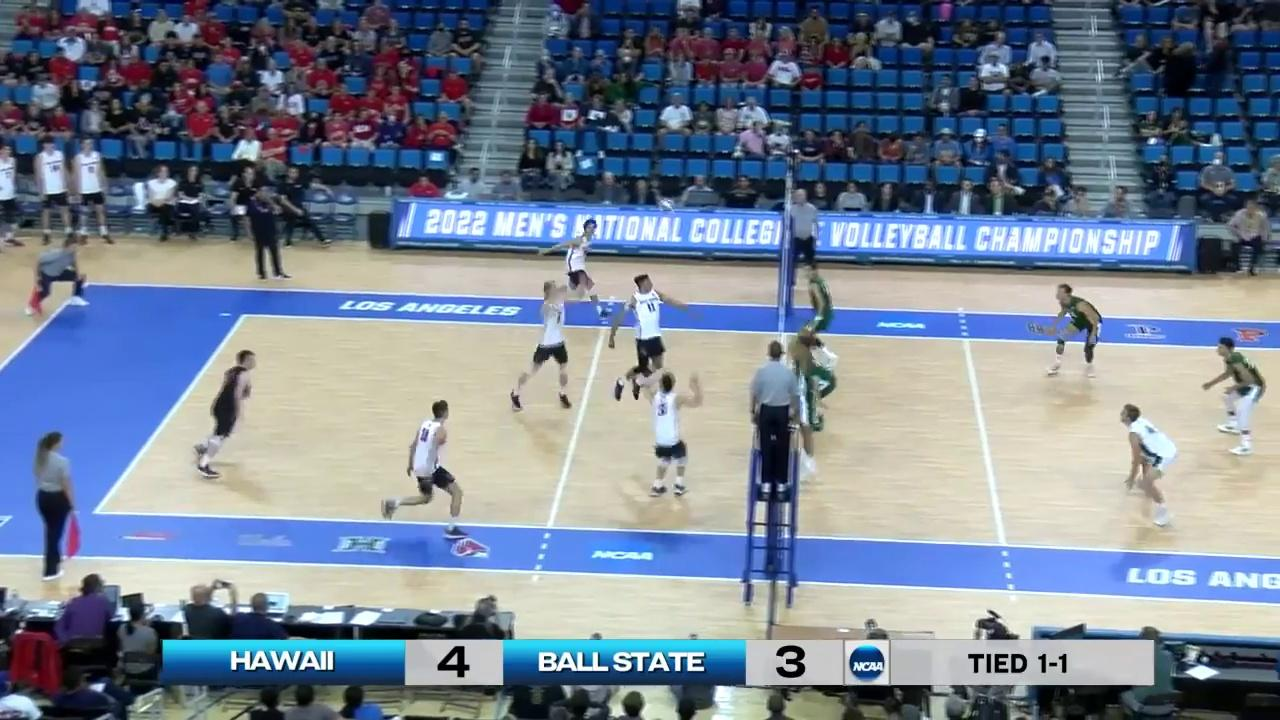player: (381, 401, 471, 537), (510, 279, 578, 415), (614, 275, 681, 401), (197, 350, 257, 476), (1119, 405, 1179, 530), (1205, 338, 1267, 456), (542, 220, 612, 317), (1040, 284, 1104, 378), (645, 371, 692, 497), (791, 336, 822, 486), (795, 265, 839, 369), (791, 334, 836, 434)
refree: (751, 341, 801, 496), (29, 435, 77, 577), (26, 234, 94, 317), (786, 190, 821, 281)
